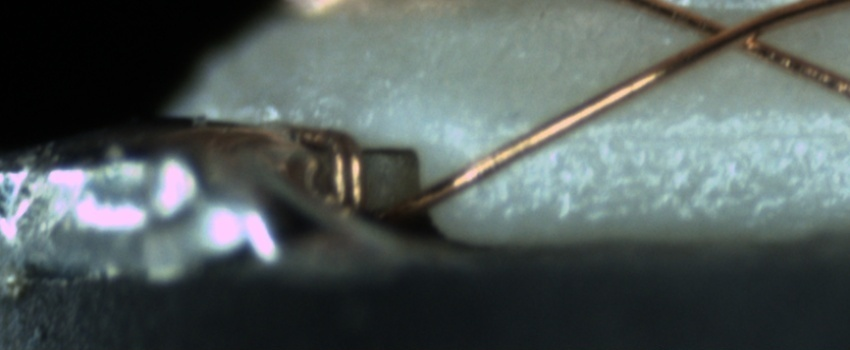CL: (685, 4, 786, 62)
DL: (542, 101, 849, 172)
TE: (287, 115, 365, 215)
